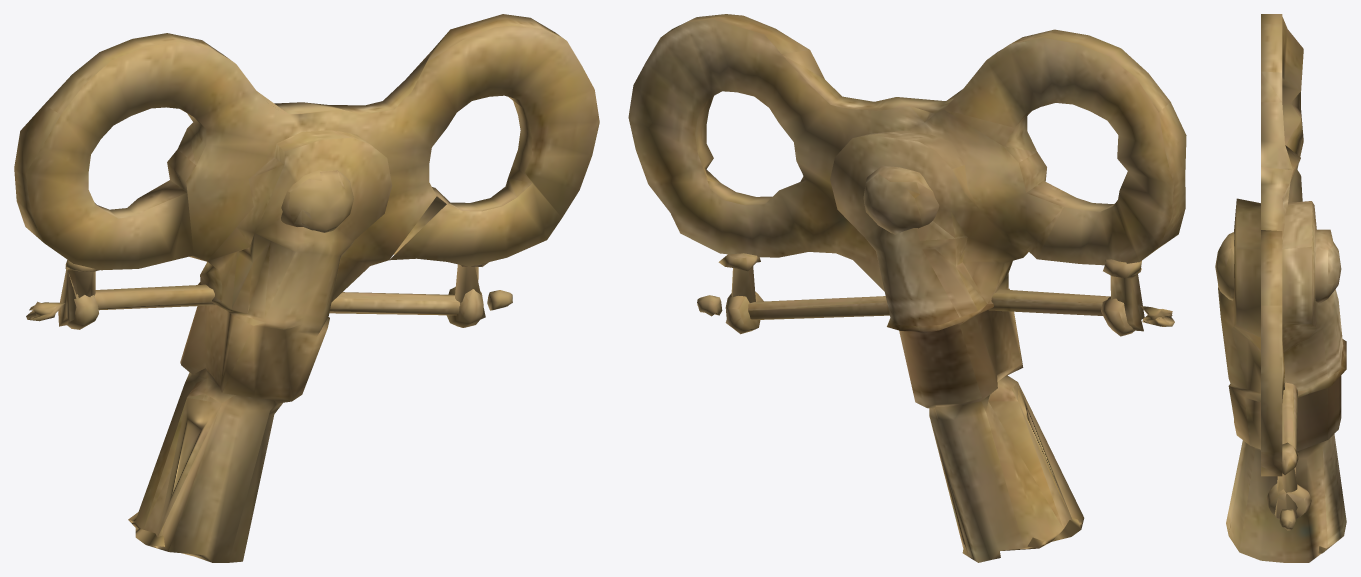
Rendered from acc_windkey_brooch.glb.
3 renders of one model, left to right at view 1: azimuth 30°, elevation 25°; view 2: azimuth 150°, elevation 25°; view 3: azimuth 270°, elevation 25°, orthographic. The views are drawn at different scales.
Size of the model in its own units: 0.1099 by 0.0991 by 0.0239.
1 material, 1 textured.
